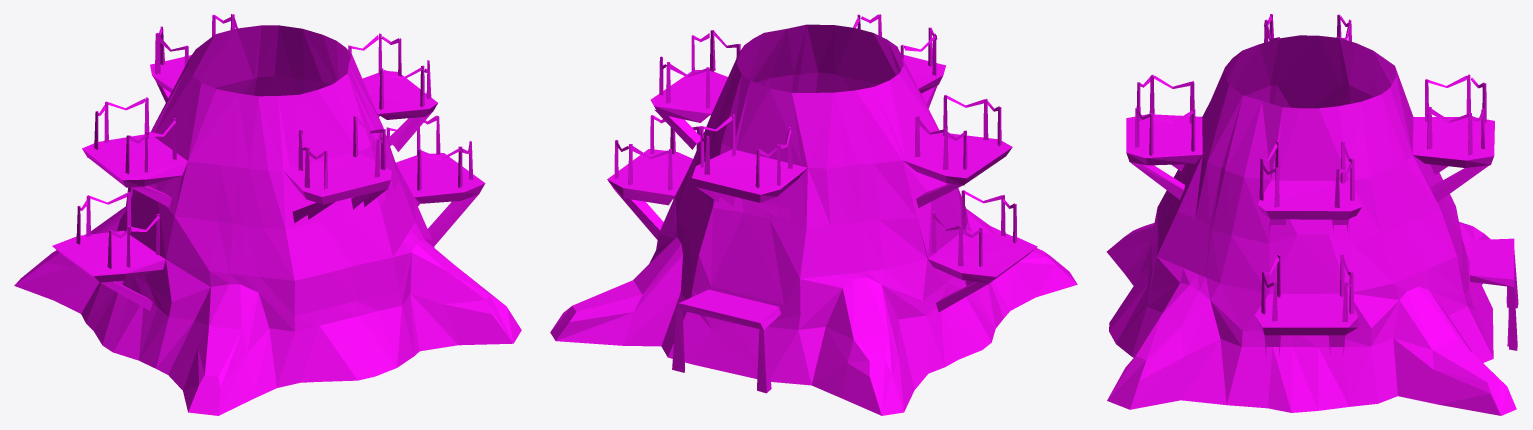
File: grand treeinside-lev 2.obj
The picture shows the model from 3 angles, left to right: view 1: azimuth 30°, elevation 25°; view 2: azimuth 150°, elevation 25°; view 3: azimuth 270°, elevation 25°; orthographic projection. The views are drawn at different scales.
Visible parts, largest first — view 1: grand treeinside-lev 2_back; view 2: grand treeinside-lev 2_back; view 3: grand treeinside-lev 2_back.
Part boxes in pixels (box(x1,y1,x2,y2)): grand treeinside-lev 2_back: box(14, 14, 521, 415); grand treeinside-lev 2_back: box(550, 14, 1077, 415); grand treeinside-lev 2_back: box(1106, 14, 1518, 415).
Bounding box in the file's own units: 11.3 × 6.87 × 10.01.
